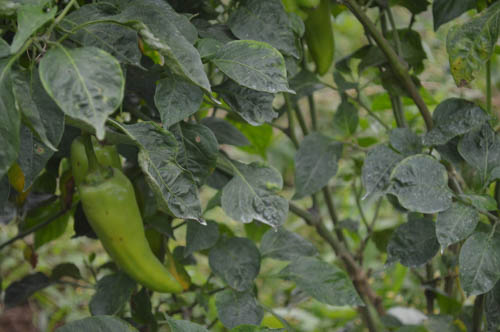ChiliPepper: (79, 176, 185, 296), (69, 138, 124, 199), (303, 6, 337, 85)
